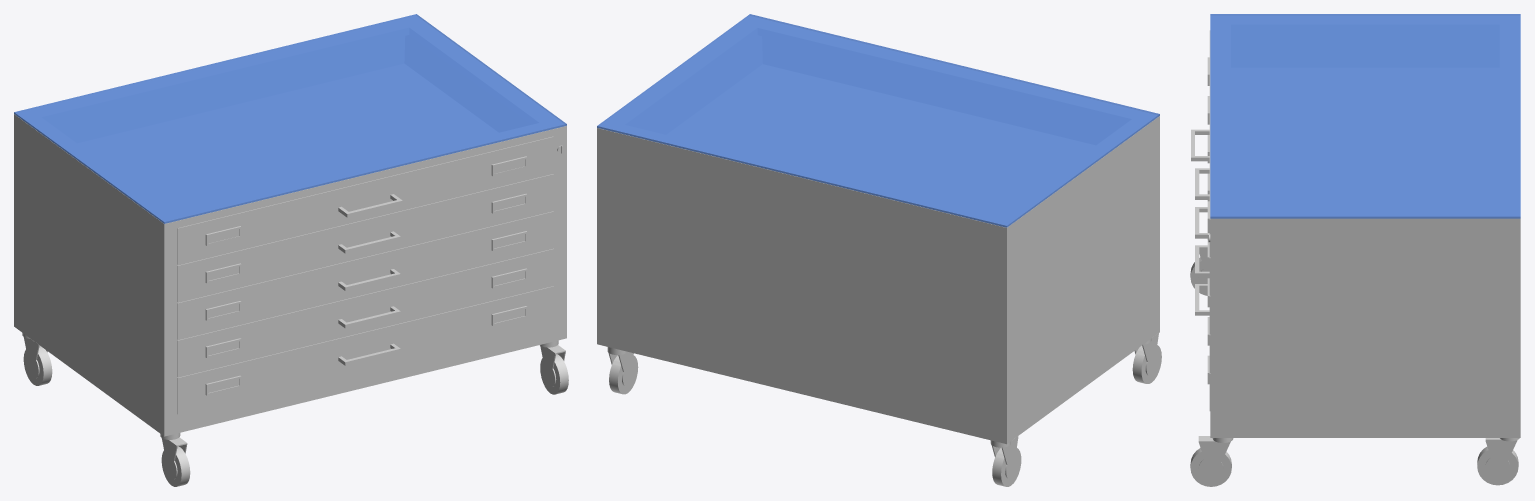
The picture shows the model from 3 angles, left to right: view 1: azimuth 30°, elevation 25°; view 2: azimuth 150°, elevation 25°; view 3: azimuth 270°, elevation 25°; orthographic projection. The views are drawn at different scales.
Visible parts, largest first — view 1: mesh1_mesh1-geometry, mesh2_mesh2-geometry; view 2: mesh1_mesh1-geometry, mesh2_mesh2-geometry; view 3: mesh1_mesh1-geometry, mesh2_mesh2-geometry.
Part boxes in pixels (x1,y1,x2,y2): mesh1_mesh1-geometry: (14, 114, 568, 486); mesh2_mesh2-geometry: (14, 14, 566, 223); mesh1_mesh1-geometry: (597, 116, 1161, 486); mesh2_mesh2-geometry: (597, 14, 1159, 227); mesh1_mesh1-geometry: (1190, 30, 1520, 486); mesh2_mesh2-geometry: (1210, 14, 1520, 218).
Bounding box in the file's own units: 0.731 × 0.4611 × 0.503.
